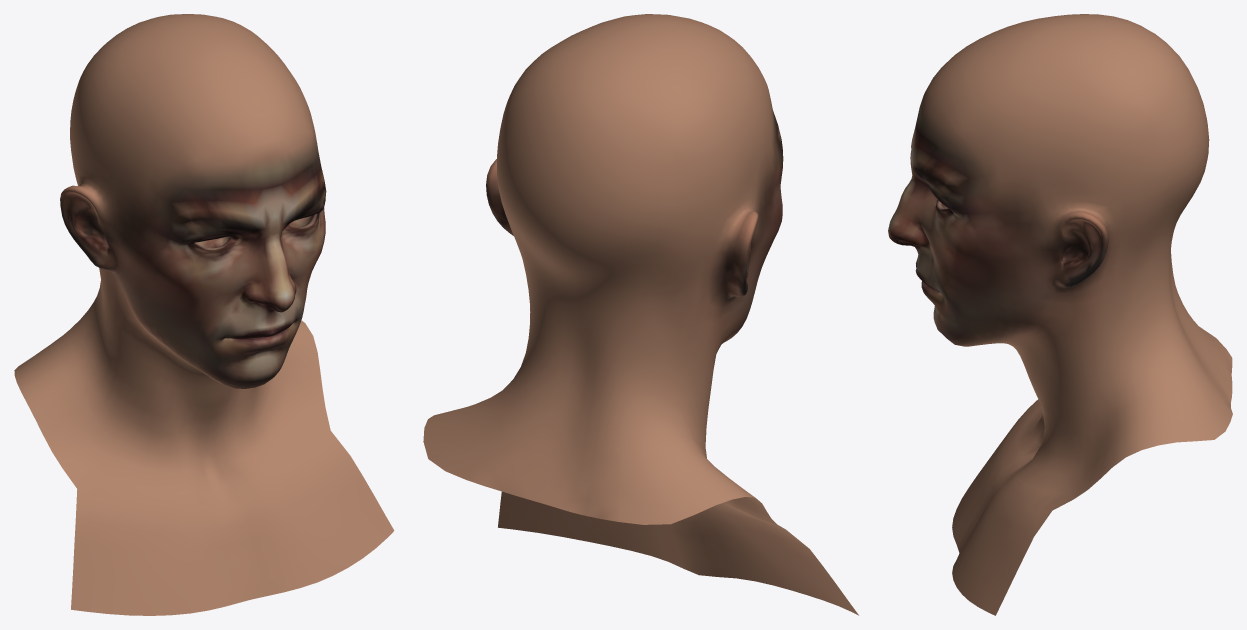
3 views of the same model, side by side, from view 1: azimuth 30°, elevation 25°; view 2: azimuth 150°, elevation 25°; view 3: azimuth 270°, elevation 25° (orthographic). The views are drawn at different scales.
Parts seen in each view (by area): view 1: TPose4_SK_1016_1016301_Lobby_LOD0_008; view 2: TPose4_SK_1016_1016301_Lobby_LOD0_008; view 3: TPose4_SK_1016_1016301_Lobby_LOD0_008.
Part boxes in pixels (x1,y1,x2,y2): TPose4_SK_1016_1016301_Lobby_LOD0_008: (14, 14, 394, 615); TPose4_SK_1016_1016301_Lobby_LOD0_008: (423, 14, 858, 615); TPose4_SK_1016_1016301_Lobby_LOD0_008: (888, 14, 1232, 615).
Size of the model in its own units: 26.38 by 41.09 by 24.37.
